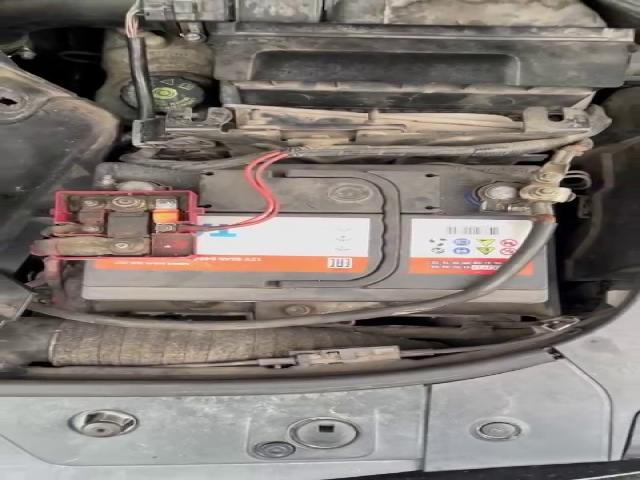accumulator: (38, 164, 548, 302)
